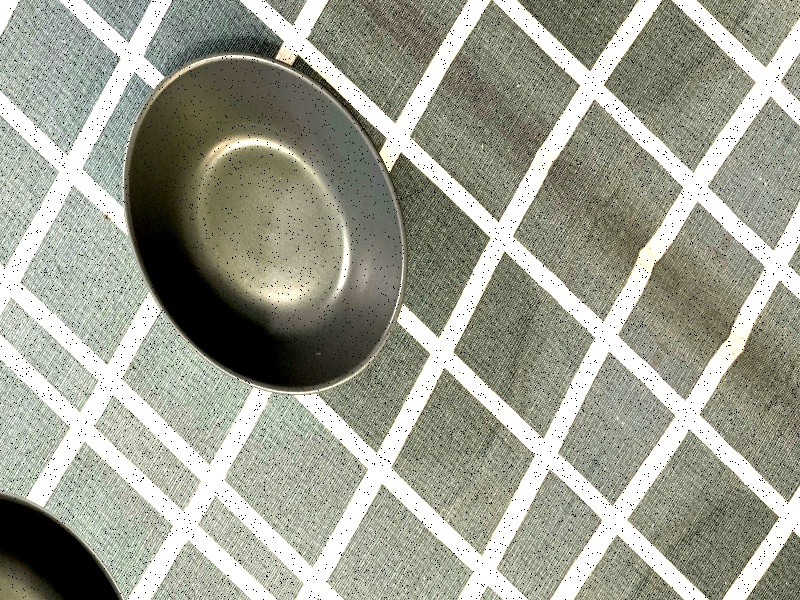bowl_big: (50, 0, 472, 474)
